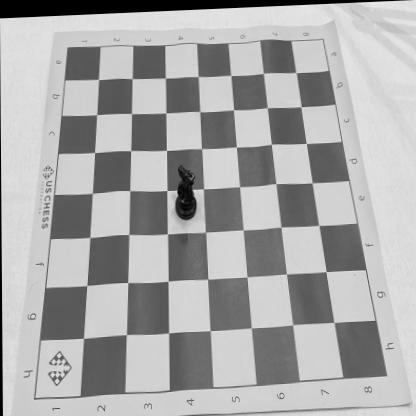black-knight: (174, 162, 197, 219)
